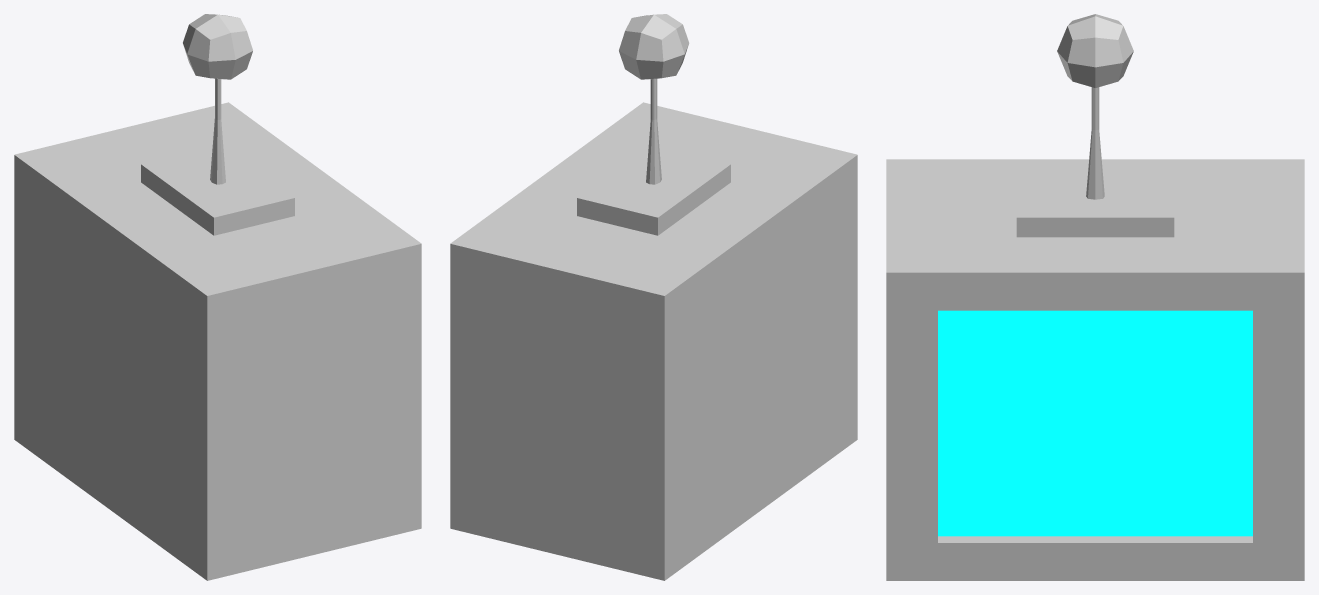
File: robot.fbx
3 views of the same model, side by side, from view 1: azimuth 30°, elevation 25°; view 2: azimuth 150°, elevation 25°; view 3: azimuth 270°, elevation 25° (orthographic). The views are drawn at different scales.
Parts seen in each view (by area): view 1: Cube, Cube.001; view 2: Cube, Cube.001; view 3: Cube, Plane, Cube.001.
Boxes of the visible parts, <box> form: Cube: <box>14,78,421,580</box>; Cube.001: <box>183,14,252,79</box>; Cube: <box>450,78,857,580</box>; Cube.001: <box>619,14,688,79</box>; Cube: <box>886,87,1304,580</box>; Plane: <box>938,310,1252,536</box>; Cube.001: <box>1057,14,1133,87</box>.
Bounding box in the file's own units: 585 × 1223 × 912.
